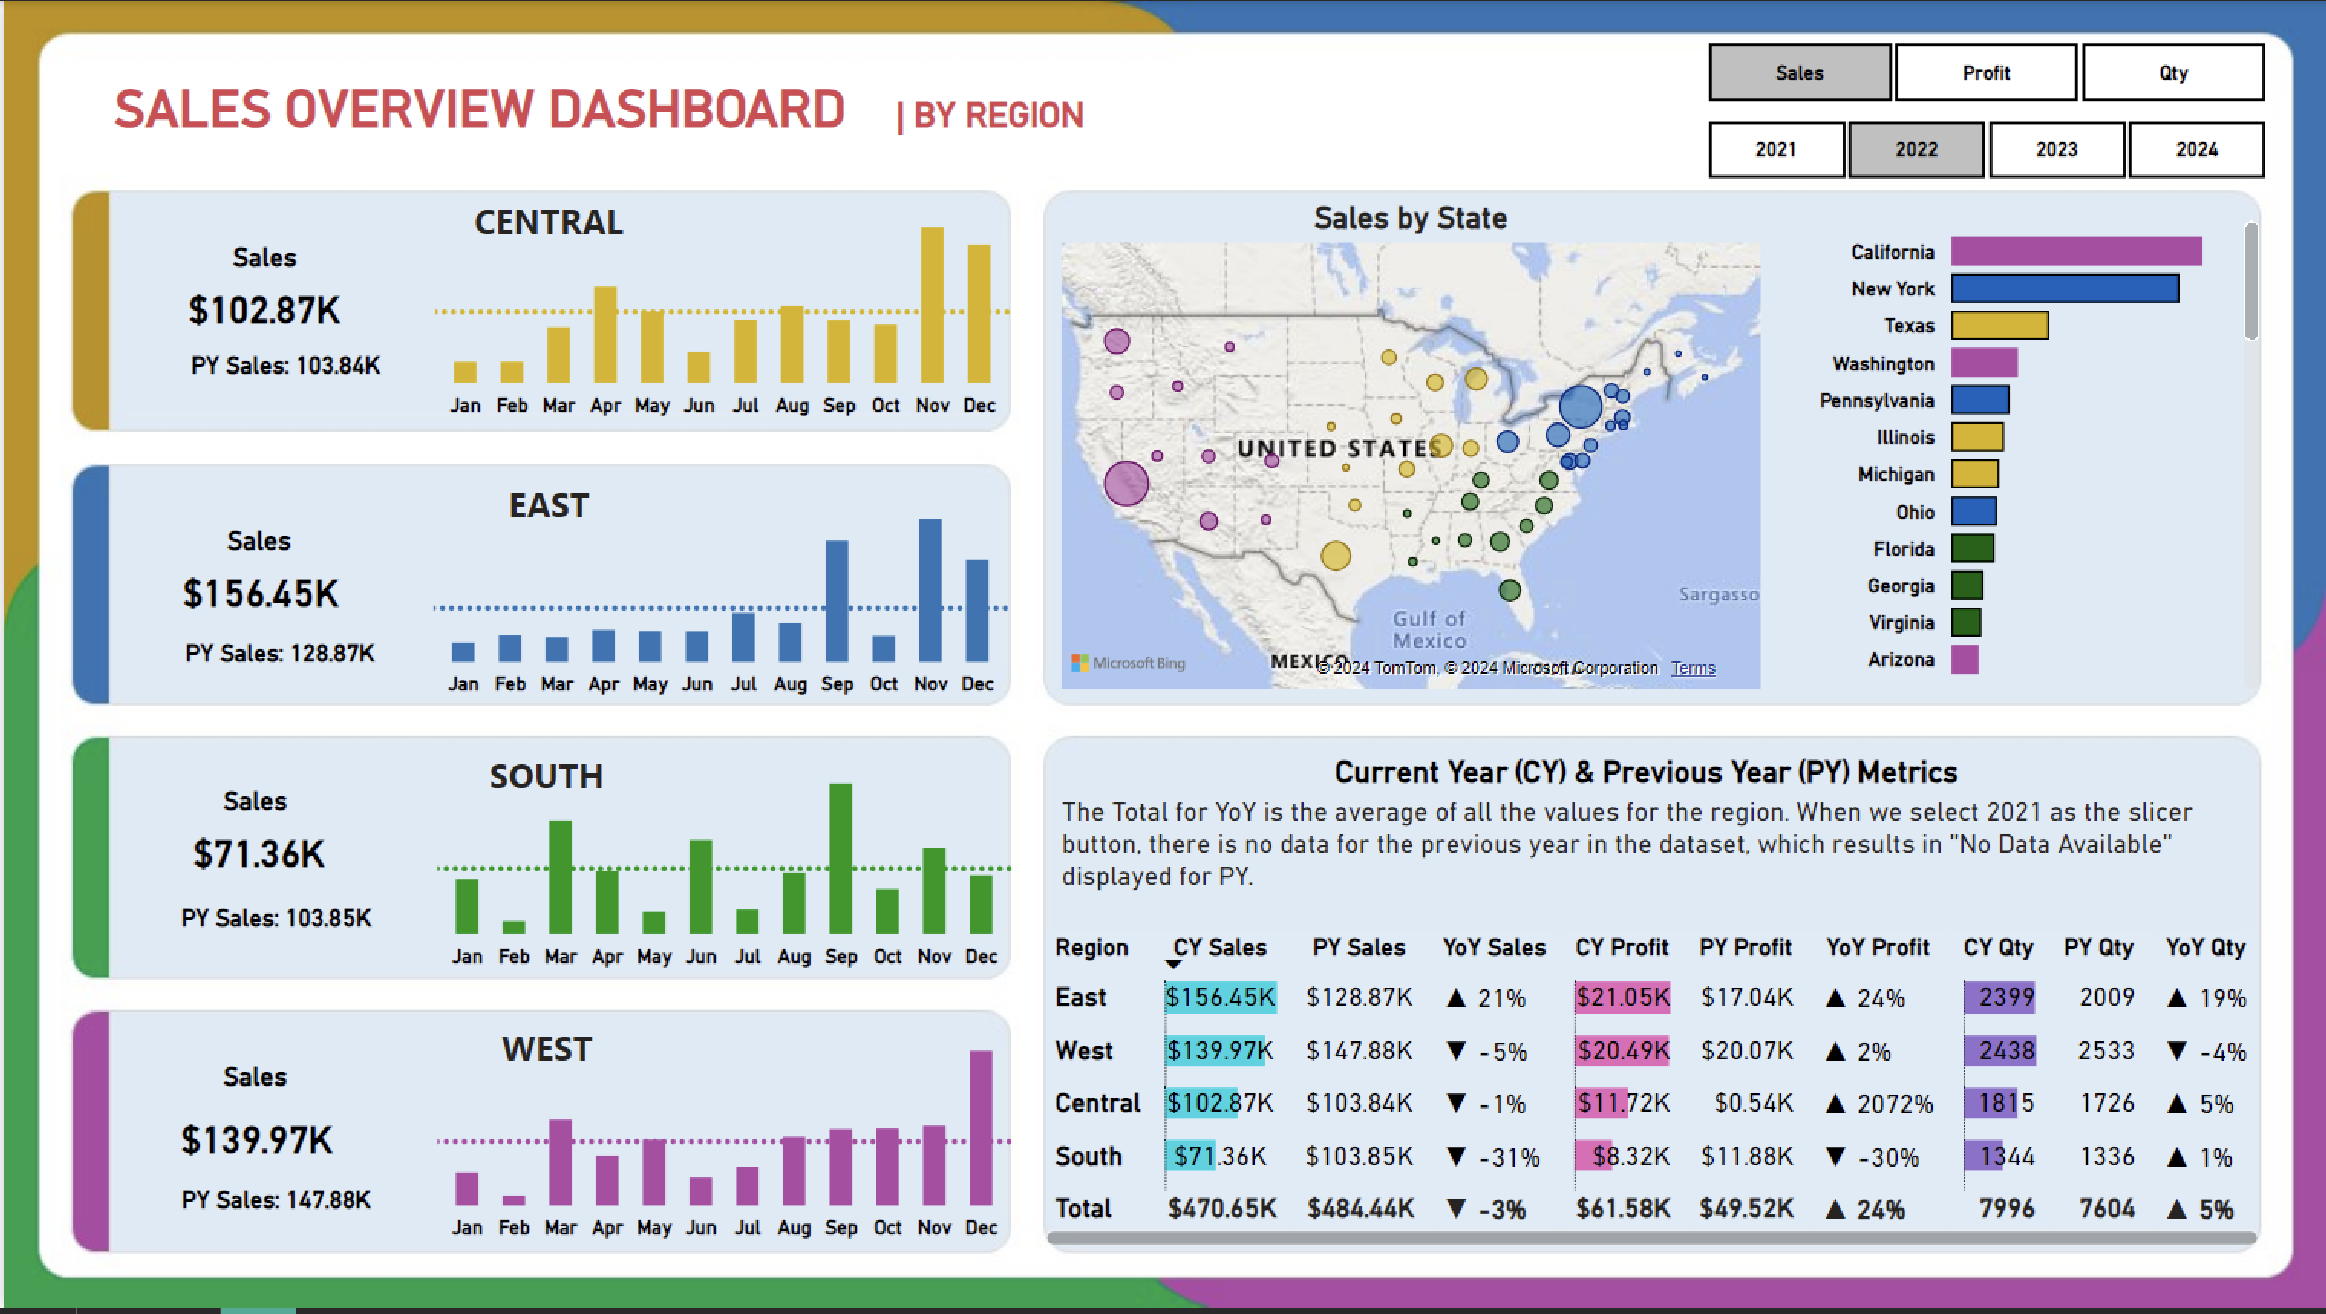

The page's visual inventory and layout, read from the dashboard file:
{"tool":"powerbi","page":{"name":"Page 1","canvas":[1280,720],"ordinal":0},"visuals":[{"type":"slicer","fields":{"Values":["Select Metric.Select Metric"]},"box":[912.8,16.3,357,46.5],"z":0},{"type":"slicer","fields":{"Values":["Calendar Table.Year"]},"box":[912.8,59.3,357,45.3],"z":1000},{"type":"card","fields":{"Values":["Sales Data.Total Sales"]},"box":[75.7,154.1,136,31.4],"z":1000,"group":"g1"},{"type":"card","fields":{"Values":["Sales Data.Total Sales"]},"box":[73.7,310.1,136,31.4],"z":1000,"group":"g2"},{"type":"card","fields":{"Values":["Sales Data.Total Sales"]},"box":[73.2,454.2,136,31.4],"z":1000,"group":"g3"},{"type":"card","fields":{"Values":["Sales Data.Total Sales"]},"box":[72,612.4,136,31.4],"z":1000,"group":"g4"},{"type":"textbox","box":[55.8,29.1,561.6,69.8],"z":2000},{"type":"textbox","box":[244.3,103.3,111.6,40.7],"z":2000,"group":"g1"},{"type":"textbox","box":[244.6,259.3,111.6,40.7],"z":2000,"group":"g2"},{"type":"textbox","box":[244.1,409.5,111.6,40.7],"z":2000,"group":"g3"},{"type":"textbox","box":[244.1,559.6,111.6,40.7],"z":2000,"group":"g4"},{"type":"group","id":"g1","title":"Group 1","box":[62.9,103.3,496.6,133.5],"z":3000},{"type":"card","fields":{"Values":["Sales Data.Dynamic Title"]},"box":[107.1,127.3,73.3,26.7],"z":4000,"group":"g1"},{"type":"group","id":"g2","title":"Group 1","box":[59.7,259.3,498.8,131.7],"z":4000},{"type":"card","fields":{"Values":["Sales Data.Dynamic Title"]},"box":[103.9,283.3,73.3,26.7],"z":4000,"group":"g2"},{"type":"card","fields":{"Values":["Sales Data.Dynamic Title"]},"box":[102.3,427.5,73.3,26.7],"z":4000,"group":"g3"},{"type":"card","fields":{"Values":["Sales Data.Dynamic Title"]},"box":[102.3,579.8,73.3,26.7],"z":4000,"group":"g4"},{"type":"card","fields":{"Values":["Sales Data.PY KPI Sales"]},"box":[62.9,182,184.9,38.4],"z":5000,"group":"g1"},{"type":"card","fields":{"Values":["Sales Data.PY KPI Sales"]},"box":[59.7,341.5,184.9,38.4],"z":5000,"group":"g2"},{"type":"group","id":"g3","title":"Group 1","box":[58.1,409.5,502.8,132],"z":5000},{"type":"card","fields":{"Values":["Sales Data.PY KPI Sales"]},"box":[58.1,487.9,184.9,38.4],"z":5000,"group":"g3"},{"type":"card","fields":{"Values":["Sales Data.PY KPI Sales"]},"box":[58,642.6,184.9,38.4],"z":5000,"group":"g4"},{"type":"clusteredColumnChart","fields":{"Y":["Sales Data.Total Sales"],"Category":["Calendar Table.Month"]},"box":[232.9,105.1,326.6,131.7],"z":6000,"group":"g1"},{"type":"clusteredColumnChart","fields":{"Y":["Sales Data.Total Sales"],"Category":["Calendar Table.Month"]},"box":[231.9,259.3,326.6,131.7],"z":6000,"group":"g2"},{"type":"clusteredColumnChart","fields":{"Y":["Sales Data.Total Sales"],"Category":["Calendar Table.Month"]},"box":[234.3,409.7,326.6,131.7],"z":6000,"group":"g3"},{"type":"group","id":"g4","title":"Group 1","box":[58,559.3,502.9,131.7],"z":6000},{"type":"clusteredColumnChart","fields":{"Y":["Sales Data.Total Sales"],"Category":["Calendar Table.Month"]},"box":[234.3,559.3,326.6,131.7],"z":6000,"group":"g4"},{"type":"map","title":"Sales by State","fields":{"Size":["Sales Data.Total Sales"],"Category":["Sales Data.State/Province"],"Series":["Sales Data.Region"]},"box":[577.9,108.1,395.3,275.6],"z":7000},{"type":"barChart","fields":{"Y":["Sales Data.Total Sales"],"Category":["Sales Data.State/Province"],"Series":["Sales Data.Region"]},"box":[973.3,108.1,274.4,275.6],"z":8000},{"type":"pivotTable","fields":{"Rows":["Sales Data.Region"],"Values":["Sales Data.CY Sales","Sales Data.PY Sales","Sales Data.YoY Sales","Sales Data.CY Profit","Sales Data.PY Profit","Sales Data.YoY Profit","Sales Data.CY Qty","Sales Data.PY Qty","Sales Data.YoY Qty"]},"box":[569.8,507,677.9,183.7],"z":9000},{"type":"textbox","box":[577.9,409.3,654.7,37.2],"z":10000},{"type":"textbox","box":[577.9,432.6,669.8,65.1],"z":11000}]}

Visuals, with their boxes in screenshot pixels (x1, y1, x2, y2), scaled from the page's 1280x720 canvas onto the 2326x1314 screenshot:
slicer - Select Metric.Select Metric: <region>1659, 30, 2307, 115</region>
slicer - Calendar Table.Year: <region>1659, 108, 2307, 191</region>
card - Sales Data.Total Sales: <region>138, 281, 385, 339</region>
card - Sales Data.Total Sales: <region>134, 566, 381, 623</region>
card - Sales Data.Total Sales: <region>133, 829, 380, 886</region>
card - Sales Data.Total Sales: <region>131, 1118, 378, 1175</region>
textbox: <region>101, 53, 1122, 180</region>
textbox: <region>444, 189, 647, 263</region>
textbox: <region>444, 473, 647, 548</region>
textbox: <region>444, 747, 646, 822</region>
textbox: <region>444, 1021, 646, 1096</region>
"Group 1" group: <region>114, 189, 1017, 432</region>
card - Sales Data.Dynamic Title: <region>195, 232, 328, 281</region>
"Group 1" group: <region>108, 473, 1015, 714</region>
card - Sales Data.Dynamic Title: <region>189, 517, 322, 566</region>
card - Sales Data.Dynamic Title: <region>186, 780, 319, 829</region>
card - Sales Data.Dynamic Title: <region>186, 1058, 319, 1107</region>
card - Sales Data.PY KPI Sales: <region>114, 332, 450, 402</region>
card - Sales Data.PY KPI Sales: <region>108, 623, 444, 693</region>
"Group 1" group: <region>106, 747, 1019, 988</region>
card - Sales Data.PY KPI Sales: <region>106, 890, 442, 960</region>
card - Sales Data.PY KPI Sales: <region>105, 1173, 441, 1243</region>
clusteredColumnChart - Sales Data.Total Sales x Calendar Table.Month: <region>423, 192, 1017, 432</region>
clusteredColumnChart - Sales Data.Total Sales x Calendar Table.Month: <region>421, 473, 1015, 714</region>
clusteredColumnChart - Sales Data.Total Sales x Calendar Table.Month: <region>426, 748, 1019, 988</region>
"Group 1" group: <region>105, 1021, 1019, 1261</region>
clusteredColumnChart - Sales Data.Total Sales x Calendar Table.Month: <region>426, 1021, 1019, 1261</region>
"Sales by State" map: <region>1050, 197, 1768, 700</region>
barChart - Sales Data.Total Sales x Sales Data.State/Province: <region>1769, 197, 2267, 700</region>
pivotTable - Sales Data.Region x Sales Data.CY Sales: <region>1035, 925, 2267, 1261</region>
textbox: <region>1050, 747, 2240, 815</region>
textbox: <region>1050, 789, 2267, 908</region>
